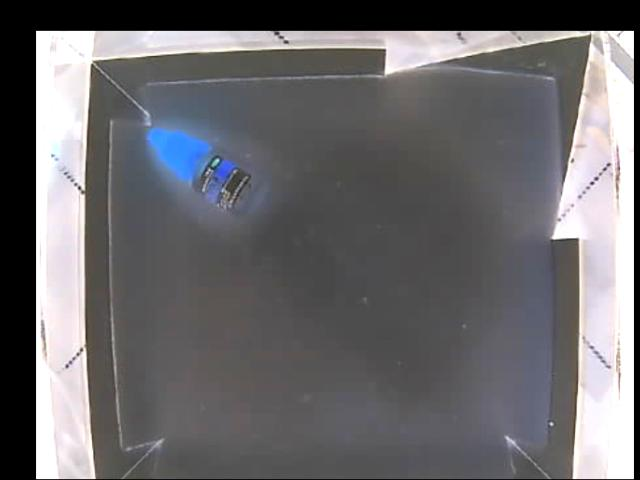Bottle: (145, 126, 264, 220)
